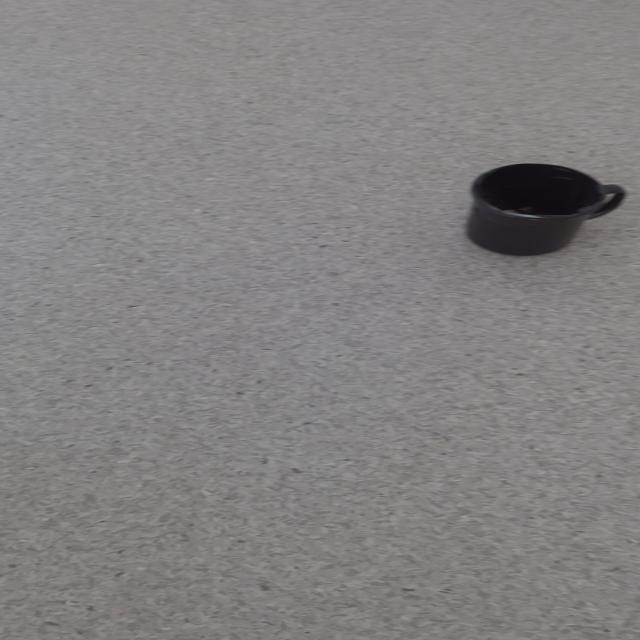mug: (465, 162, 625, 256)
